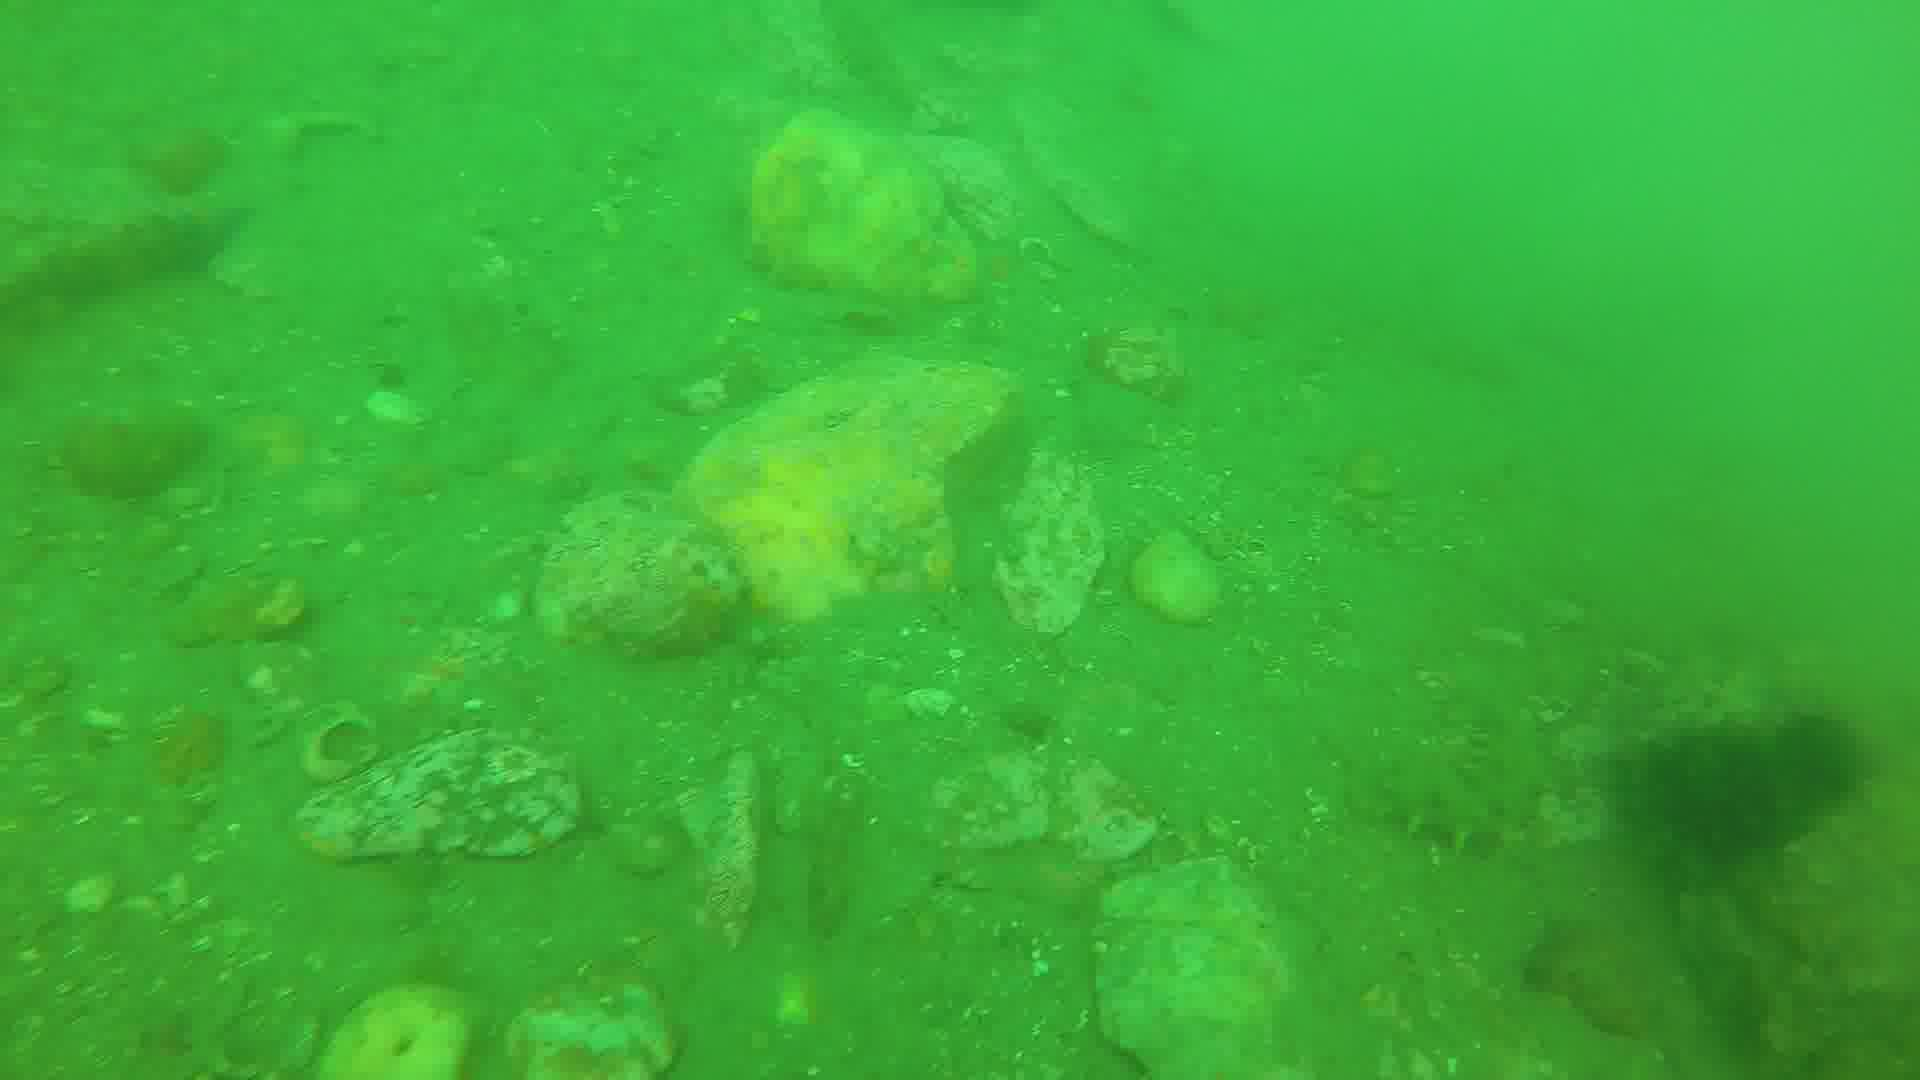echinus: (1643, 719, 1815, 858), (1783, 708, 1880, 812)
holothurian: (1364, 721, 1563, 855)
